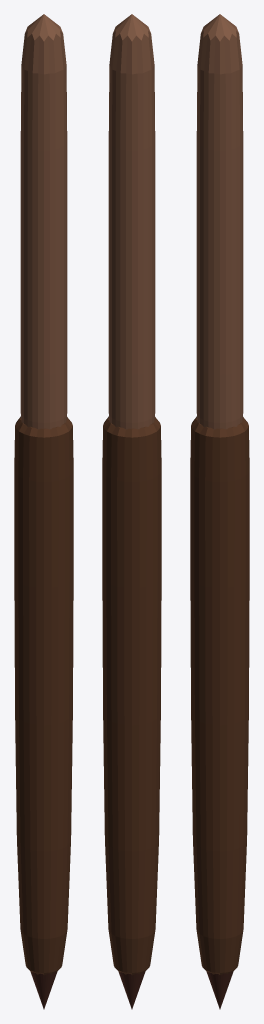
Rendered from Wand 12.glb.
3 views of the same model, side by side, from view 1: azimuth 30°, elevation 25°; view 2: azimuth 210°, elevation 25°; view 3: azimuth 330°, elevation 25° (orthographic).
Parts seen in each view (by area): view 1: GeneratedWand; view 2: GeneratedWand; view 3: GeneratedWand.
Boxes of the visible parts, x1,y1,x2,y2 form: GeneratedWand: (14,14,73,1009); GeneratedWand: (102,14,161,1009); GeneratedWand: (190,14,249,1009).
Bounding box in the file's own units: 0.0273 × 0.5047 × 0.0273.
